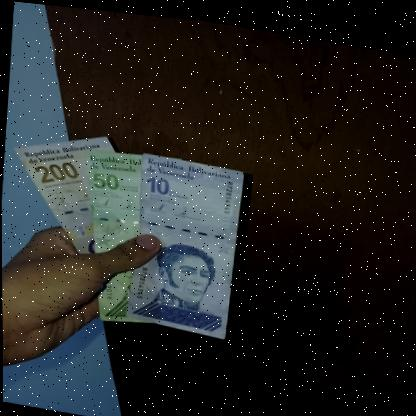fifty-front-vef: (72, 141, 146, 325)
ten-front-vef: (122, 148, 245, 338)
two_hundred-front-vef: (6, 118, 117, 258)
